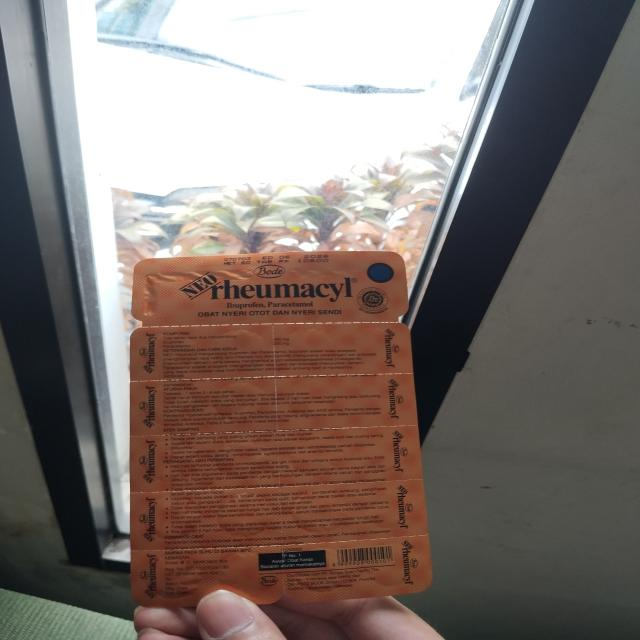B3: (131, 252, 435, 608)
